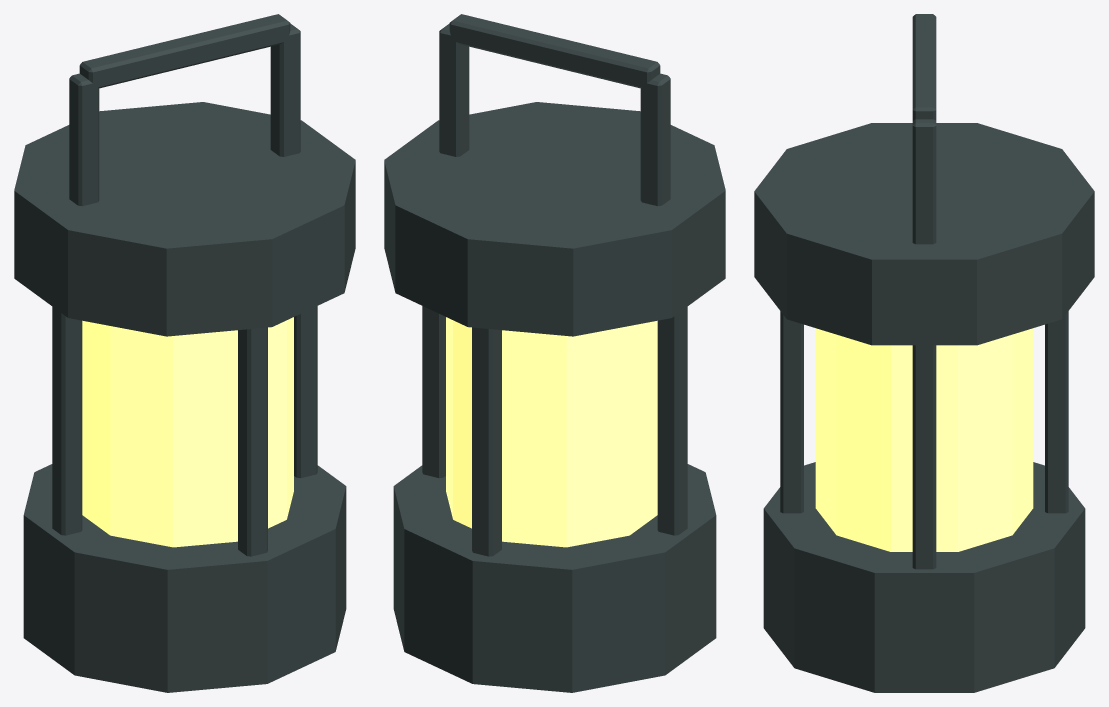
Rendered from Portable_Lamp.glb.
3 views of the same model, side by side, from view 1: azimuth 30°, elevation 25°; view 2: azimuth 150°, elevation 25°; view 3: azimuth 270°, elevation 25° (orthographic). The views are drawn at different scales.
Parts seen in each view (by area): view 1: Portable_Lamp; view 2: Portable_Lamp; view 3: Portable_Lamp.
Boxes of the visible parts, x1=… form: Portable_Lamp: x1=14, y1=14, x2=355, y2=692; Portable_Lamp: x1=384, y1=14, x2=725, y2=692; Portable_Lamp: x1=754, y1=14, x2=1094, y2=692.
Size of the model in its own units: 0.3424 by 0.6625 by 0.36.
